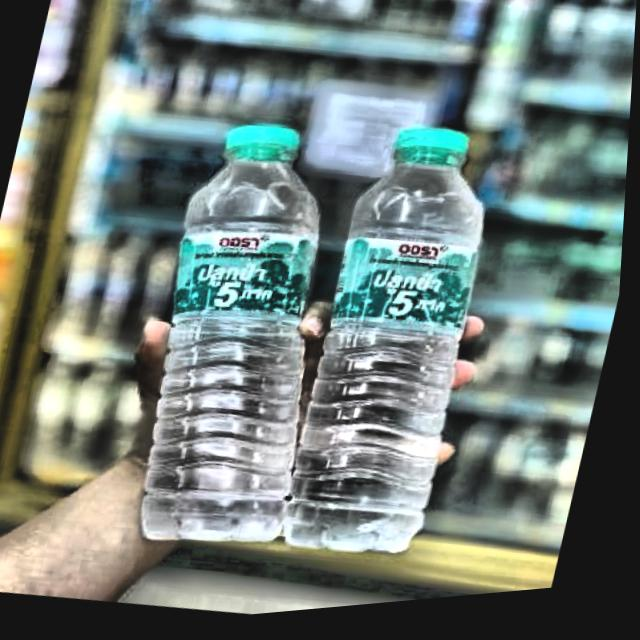Bottles: (100, 100, 386, 572), (269, 107, 536, 590)
